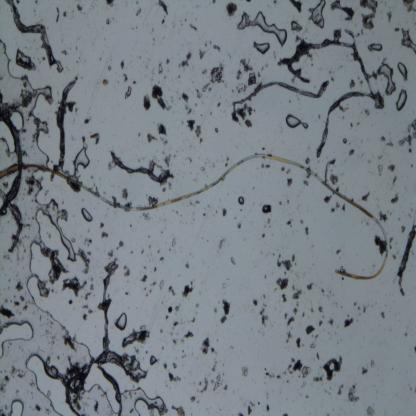Air bubble: (0, 274, 95, 412), (0, 29, 58, 162), (28, 180, 78, 262), (24, 354, 77, 416), (235, 8, 288, 48), (0, 318, 35, 360), (121, 385, 164, 415), (376, 62, 396, 93), (309, 0, 327, 29), (72, 147, 90, 175), (16, 49, 36, 70), (285, 113, 309, 130), (401, 28, 416, 53), (252, 38, 270, 56), (10, 396, 26, 415), (396, 88, 408, 113), (396, 61, 409, 82), (115, 312, 128, 332), (80, 206, 94, 223), (289, 19, 303, 33), (367, 42, 382, 52), (237, 196, 245, 206), (149, 355, 157, 365), (343, 137, 347, 145)
Background material: (41, 246, 67, 284), (122, 352, 148, 385), (234, 57, 258, 87), (122, 324, 149, 349), (58, 276, 89, 297), (230, 104, 254, 131), (397, 115, 416, 149), (202, 64, 224, 92), (322, 354, 344, 382), (8, 85, 32, 110), (151, 84, 171, 113), (358, 0, 377, 29), (287, 358, 312, 380), (330, 1, 355, 22), (77, 246, 92, 278), (275, 252, 297, 272), (167, 318, 181, 347), (187, 118, 203, 142), (218, 299, 231, 325), (374, 233, 387, 257), (372, 90, 386, 112), (324, 158, 336, 183), (201, 335, 215, 356), (105, 245, 121, 263), (182, 93, 194, 115), (23, 173, 36, 193), (224, 0, 238, 18), (213, 374, 225, 394), (348, 383, 360, 403), (157, 124, 168, 145), (62, 334, 76, 350), (400, 0, 416, 14), (290, 286, 304, 302), (328, 203, 346, 215), (141, 92, 151, 113), (275, 277, 290, 291), (259, 157, 272, 173), (53, 57, 65, 74), (182, 280, 194, 297), (289, 0, 303, 14), (180, 52, 192, 68), (197, 375, 208, 392), (179, 258, 192, 272), (342, 315, 355, 329), (167, 372, 182, 384), (89, 131, 101, 146), (259, 305, 267, 327), (377, 208, 389, 222), (158, 0, 168, 16), (186, 21, 199, 33), (0, 306, 13, 318), (81, 305, 92, 319), (353, 302, 367, 313), (265, 372, 281, 381), (146, 132, 158, 144), (260, 204, 273, 215), (361, 190, 371, 204), (389, 191, 399, 205), (124, 86, 134, 100), (171, 405, 185, 415), (329, 173, 339, 187), (334, 244, 342, 260), (122, 264, 131, 278), (197, 48, 208, 59), (230, 253, 238, 268), (13, 280, 23, 292), (168, 232, 176, 247), (121, 186, 129, 200), (218, 240, 228, 251), (148, 195, 158, 206), (323, 194, 333, 205), (304, 154, 313, 166), (285, 176, 294, 188), (306, 324, 315, 336), (102, 16, 110, 29), (366, 406, 376, 416), (212, 43, 222, 53), (74, 3, 84, 13), (133, 6, 142, 17), (360, 365, 369, 376), (287, 316, 296, 327), (387, 163, 396, 174), (142, 211, 151, 222), (158, 62, 165, 76), (167, 303, 173, 319), (183, 330, 195, 338), (168, 284, 176, 296), (377, 162, 383, 178), (349, 78, 356, 91), (82, 117, 92, 126), (296, 336, 302, 351), (106, 0, 115, 10), (399, 224, 407, 235), (122, 72, 130, 83), (190, 313, 197, 325), (241, 366, 248, 378), (120, 58, 126, 72), (386, 10, 392, 24), (214, 123, 220, 137), (158, 253, 166, 263), (220, 208, 228, 218), (60, 48, 68, 58), (140, 274, 148, 284), (286, 330, 292, 343), (193, 300, 200, 311), (102, 79, 110, 88), (370, 358, 376, 370), (152, 278, 158, 290), (280, 294, 288, 303), (337, 384, 343, 396), (215, 99, 222, 109), (55, 7, 60, 21), (118, 238, 125, 248), (379, 310, 386, 320), (286, 220, 294, 228), (252, 298, 259, 307), (305, 283, 314, 290), (395, 24, 401, 34), (365, 107, 370, 119), (304, 226, 310, 236), (380, 135, 387, 143), (259, 230, 266, 238), (318, 304, 325, 312), (101, 231, 108, 239), (159, 279, 164, 290), (247, 403, 252, 414), (224, 154, 228, 167), (302, 179, 309, 186), (106, 63, 113, 70), (152, 266, 158, 274), (164, 58, 172, 64), (172, 362, 178, 370), (348, 149, 354, 157), (163, 361, 168, 370), (100, 221, 106, 228), (328, 319, 334, 326), (294, 306, 298, 316), (411, 344, 416, 352), (191, 396, 196, 404), (320, 288, 326, 294), (266, 403, 270, 412), (318, 320, 323, 327), (237, 222, 241, 230)
Cellulose filter fibre: (285, 35, 373, 93), (316, 91, 380, 159), (45, 350, 121, 404), (96, 265, 122, 403), (7, 2, 53, 64), (232, 80, 330, 105), (0, 112, 23, 215), (108, 150, 172, 184), (53, 80, 76, 170), (394, 219, 416, 294)
